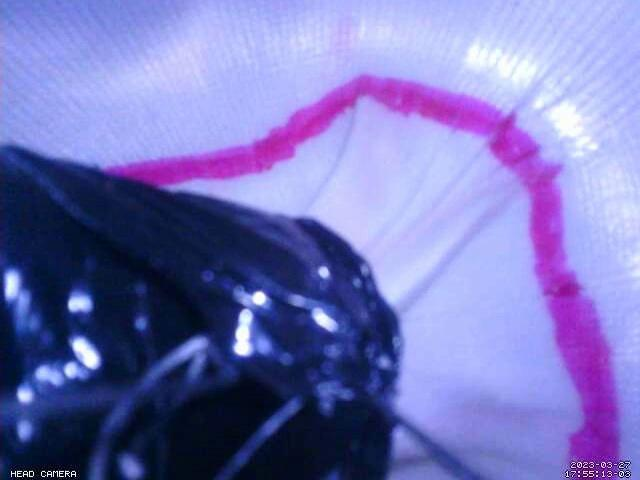red-circle: (103, 73, 620, 480)
